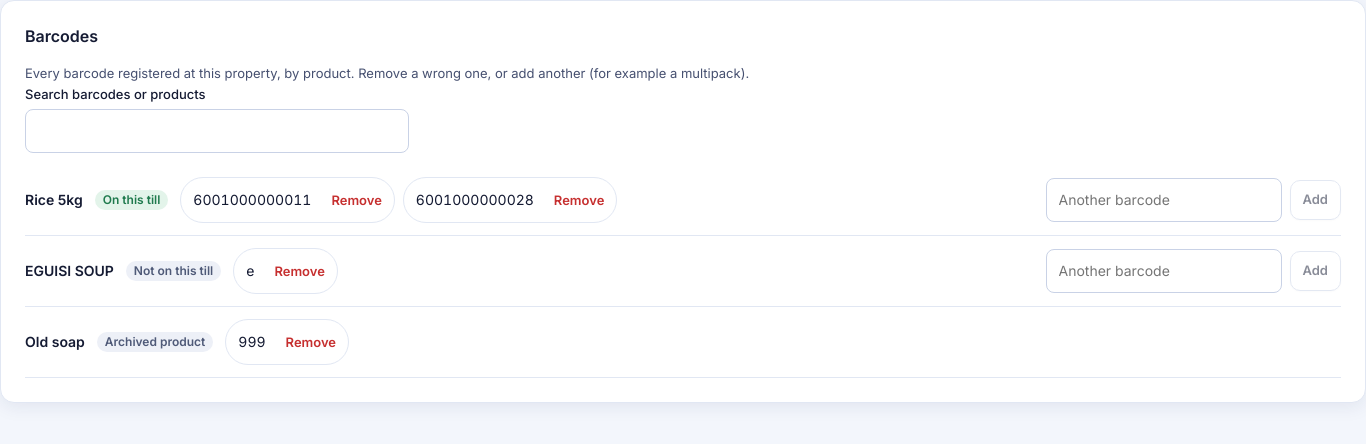
<BarcodesCard> › adds another barcode to a product that already has one, and shows a refused duplicate
The width and height of the screenshot is (1366, 444).
Type "6001000000042" into the field named "Another barcode for Rice 5kg" at (1164, 200), box [1046,178,1282,222]
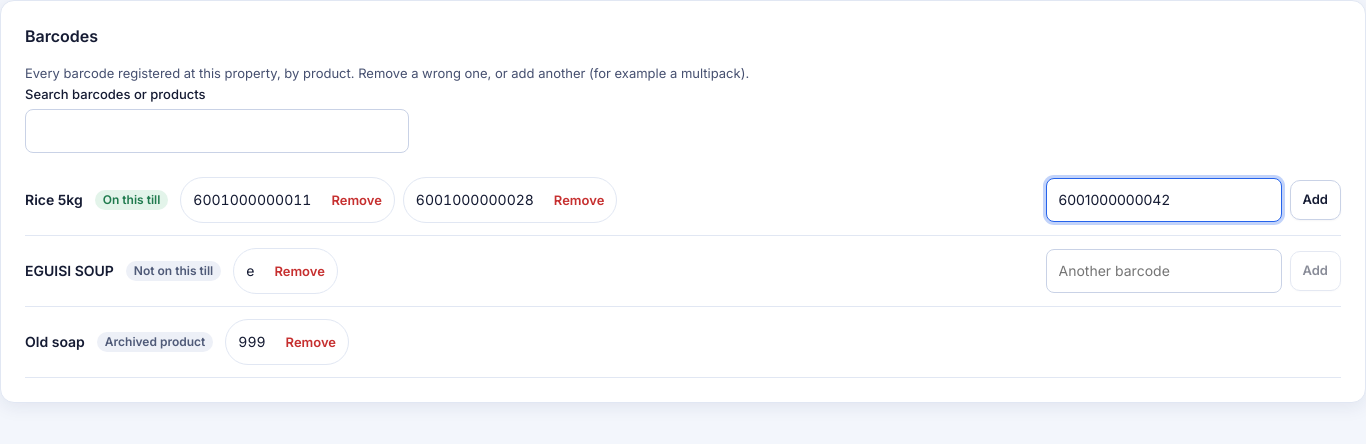
Click the button "Add" in the row of "Rice 5kg" at (1315, 200), box [1290,180,1341,220]
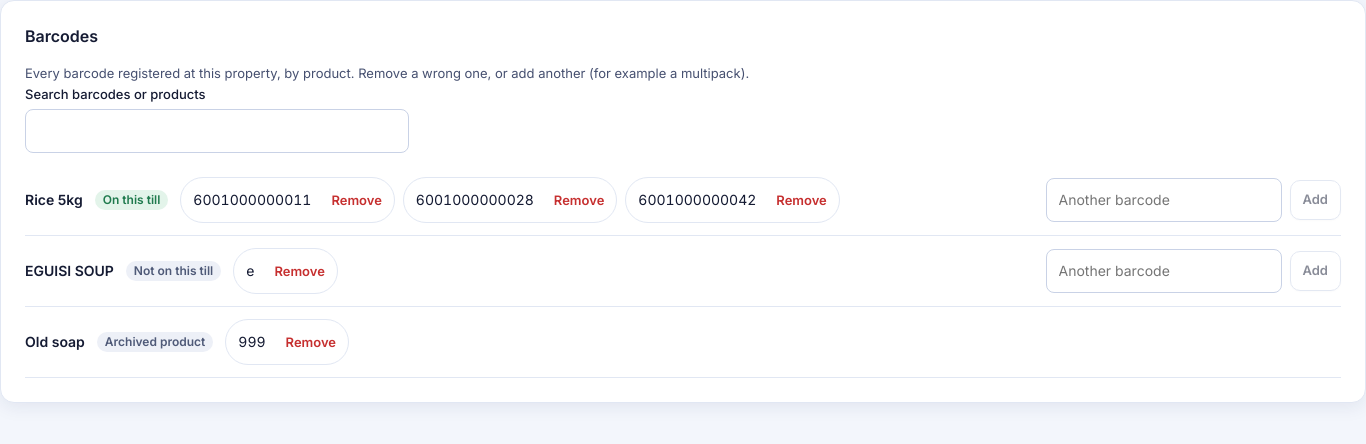
expect the text "6001000000042" is shown: met, box [638,189,756,211]
expect the field named "Another barcode for Rice 5kg" is empty: met
Type "e" into the field named "Another barcode for Rice 5kg" at (1164, 200), box [1046,178,1282,222]
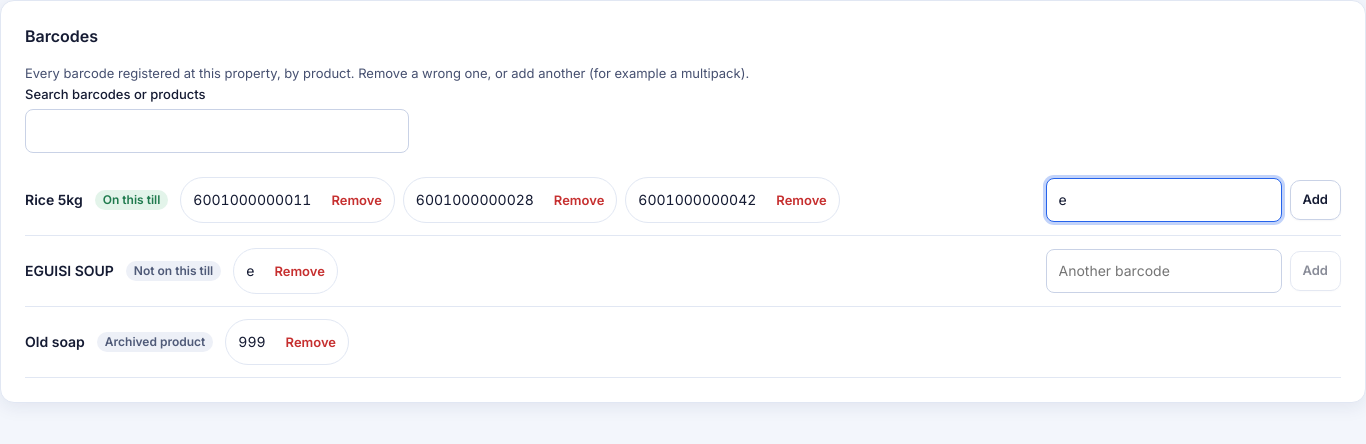
Click the button "Add" in the row of "Rice 5kg" at (1315, 200), box [1290,180,1341,220]
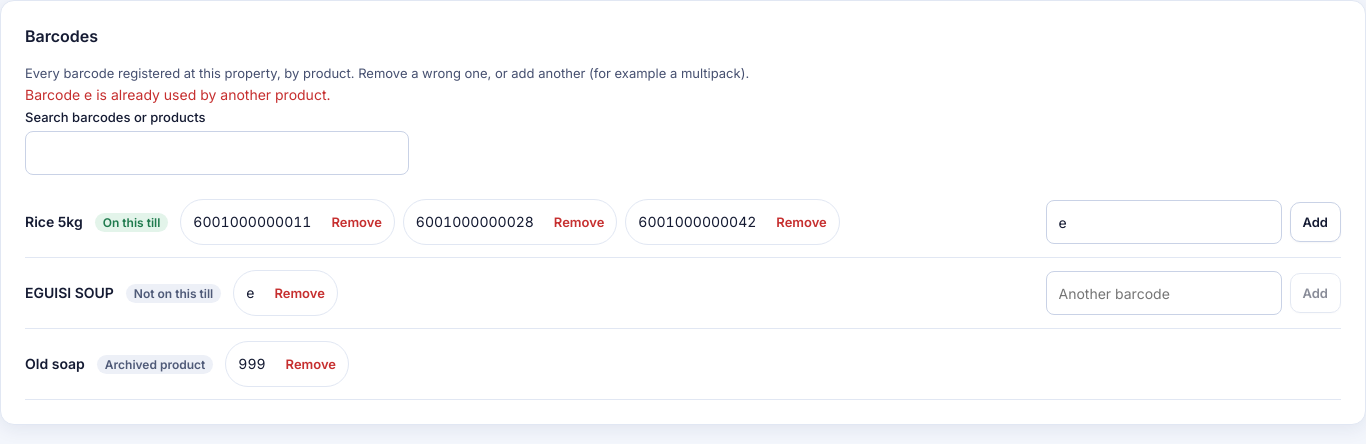
expect the message reads "Barcode e is already used by another product.": met, box [25,86,330,103]
